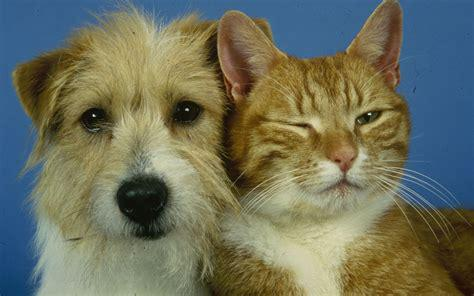cat: (217, 1, 474, 296)
dog: (13, 15, 219, 296)
